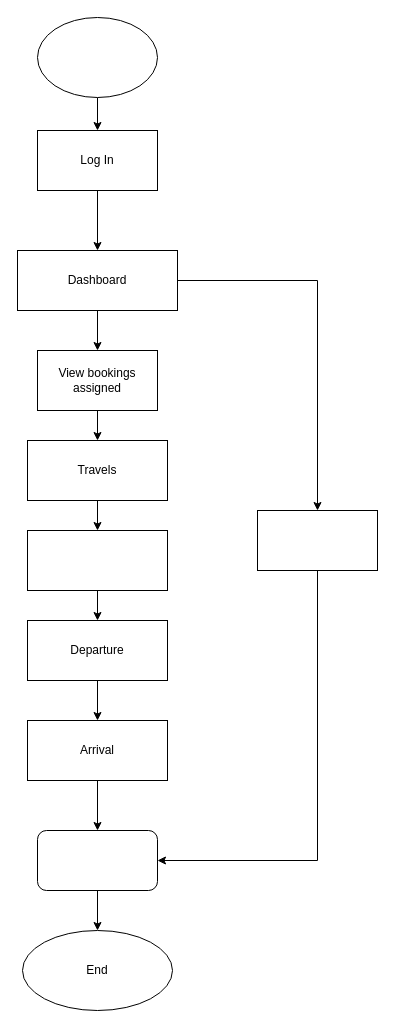
Image size: 395x1028. Some labels were removed from this diagram. Here are the shapes that lost their labels. From the top down, the centre of each, then its label:
(97,57): Start
(97,560): In progress
(317,540): Delivered bookings
(97,860): Log out
